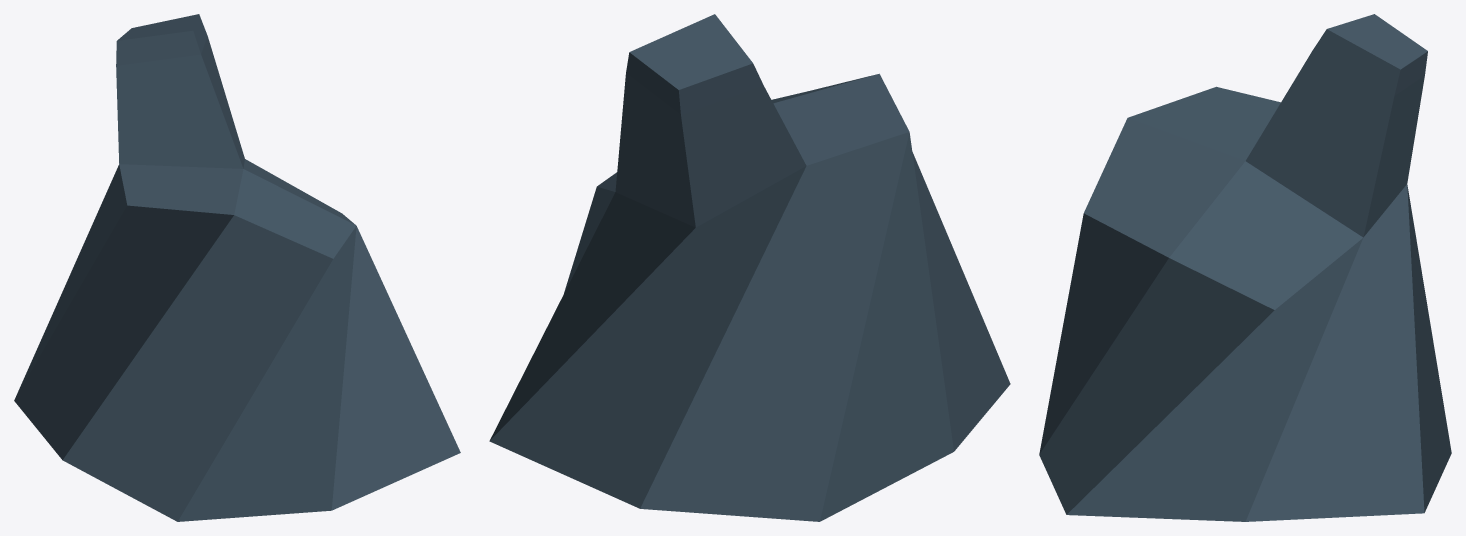
Rendered from rock-035.glb.
The picture shows the model from 3 angles, left to right: view 1: azimuth 30°, elevation 25°; view 2: azimuth 150°, elevation 25°; view 3: azimuth 270°, elevation 25°; orthographic projection. The views are drawn at different scales.
Parts seen in each view (by area): view 1: Rock 5_536; view 2: Rock 5_536; view 3: Rock 5_536.
Part boxes in pixels (x1,y1,x2,y2): Rock 5_536: (14, 14, 460, 521); Rock 5_536: (489, 14, 1010, 521); Rock 5_536: (1039, 14, 1451, 521).
Size of the model in its own units: 1.28 by 1.35 by 1.19.
